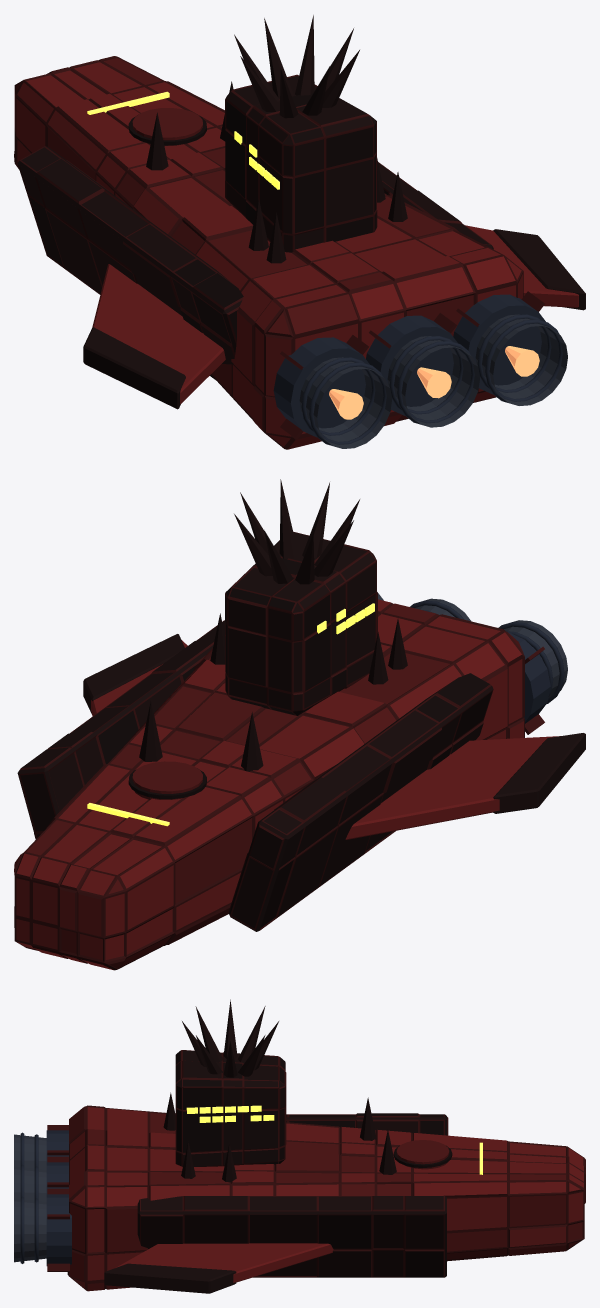
Rendered from captain.glb.
The picture shows the model from 3 angles, top to bottom: view 1: azimuth 30°, elevation 25°; view 2: azimuth 150°, elevation 25°; view 3: azimuth 270°, elevation 25°; orthographic projection. The views are drawn at different scales.
Visible parts, largest first — view 1: captain_mesh; view 2: captain_mesh; view 3: captain_mesh.
Boxes of the visible parts, <box> form: captain_mesh: <box>14,15,585,449</box>; captain_mesh: <box>14,479,585,970</box>; captain_mesh: <box>14,999,585,1293</box>.
Size of the model in its own units: 11.38 by 7.45 by 16.64.
